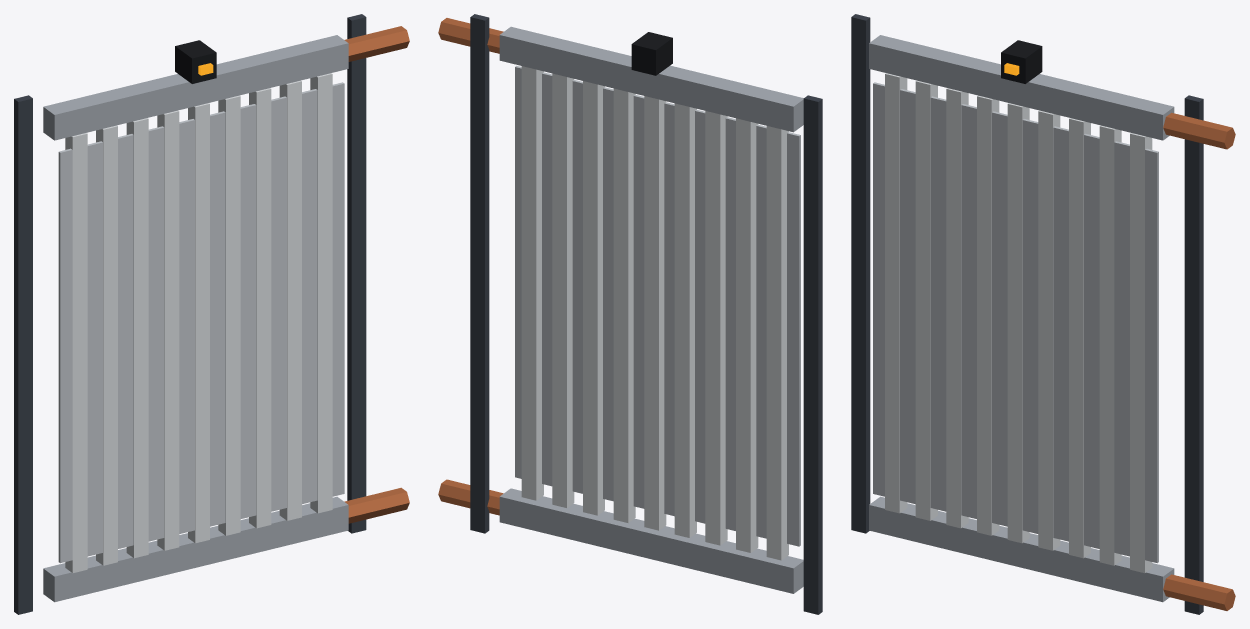
Rendered from tank_radiator_panel.glb.
The picture shows the model from 3 angles, left to right: view 1: azimuth 30°, elevation 25°; view 2: azimuth 150°, elevation 25°; view 3: azimuth 330°, elevation 25°; orthographic projection.
Visible parts, largest first — view 1: tank_radiator_panel; view 2: tank_radiator_panel; view 3: tank_radiator_panel.
Part boxes in pixels (box(x1,y1,x2,y2)): tank_radiator_panel: box(14, 14, 409, 614); tank_radiator_panel: box(438, 14, 822, 614); tank_radiator_panel: box(851, 14, 1235, 614).
Bounding box in the file's own units: 1.56 × 2.05 × 0.14.
